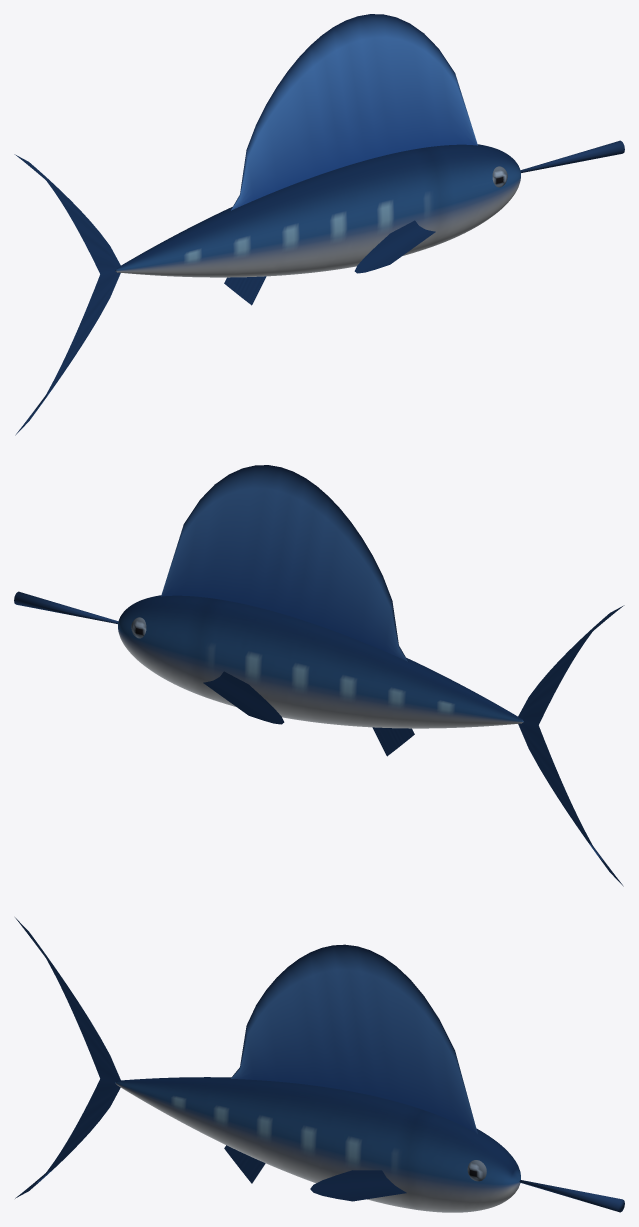
File: yelken.glb
The picture shows the model from 3 angles, top to bottom: view 1: azimuth 30°, elevation 25°; view 2: azimuth 150°, elevation 25°; view 3: azimuth 330°, elevation 25°; orthographic projection.
Visible parts, largest first — view 1: yelken_govde, yelken_yelken, yelken_kuyruk, yelken_gogusL, yelken_gaga, yelken_anal_a; view 2: yelken_govde, yelken_yelken, yelken_kuyruk, yelken_gogusR, yelken_gaga, yelken_anal_a; view 3: yelken_govde, yelken_yelken, yelken_kuyruk, yelken_gogusL, yelken_gaga, yelken_anal_a.
Boxes of the visible parts, <box> form: yelken_govde: <box>115,144,520,277</box>; yelken_yelken: <box>230,14,477,210</box>; yelken_kuyruk: <box>14,154,120,435</box>; yelken_gogusL: <box>354,220,435,273</box>; yelken_gaga: <box>520,140,624,172</box>; yelken_anal_a: <box>224,276,266,305</box>; yelken_govde: <box>118,595,523,728</box>; yelken_yelken: <box>161,465,408,661</box>; yelken_kuyruk: <box>518,605,624,886</box>; yelken_gogusR: <box>203,671,284,724</box>; yelken_gaga: <box>14,591,118,623</box>; yelken_anal_a: <box>372,727,414,756</box>; yelken_govde: <box>115,1077,520,1212</box>; yelken_yelken: <box>230,944,477,1133</box>; yelken_kuyruk: <box>15,917,120,1198</box>; yelken_gogusL: <box>310,1170,406,1201</box>; yelken_gaga: <box>519,1180,624,1212</box>; yelken_anal_a: <box>224,1145,265,1183</box>.
Size of the model in its own units: 1.24 by 0.6568 by 0.157.
